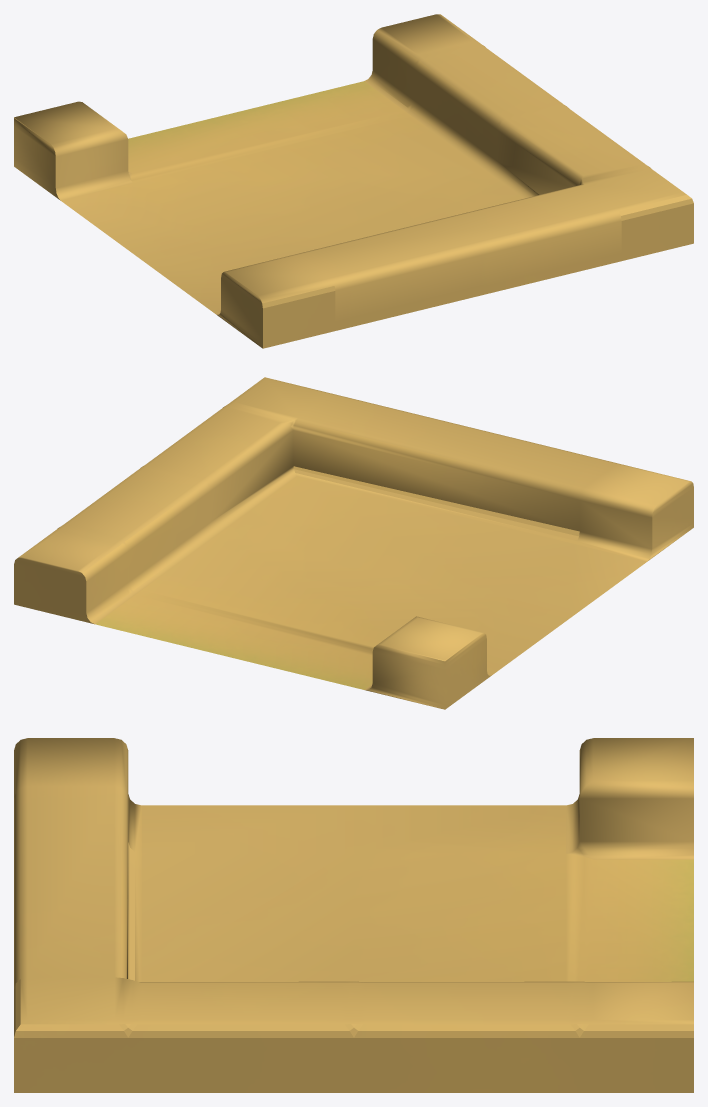
The model's file is Map018.obj.
3 views of the same model, one above another, from view 1: azimuth 30°, elevation 25°; view 2: azimuth 150°, elevation 25°; view 3: azimuth 270°, elevation 25° (orthographic). The views are drawn at different scales.
Visible parts, largest first — view 1: Map.018_Plane.036; view 2: Map.018_Plane.036; view 3: Map.018_Plane.036.
Boxes of the visible parts, x1,y1,x2,y2 form: Map.018_Plane.036: [14, 14, 693, 348]; Map.018_Plane.036: [14, 377, 693, 709]; Map.018_Plane.036: [14, 738, 693, 1092].
Bounding box in the file's own units: 1 × 0.1093 × 1.
Materials: 1 (1 with a texture image).
